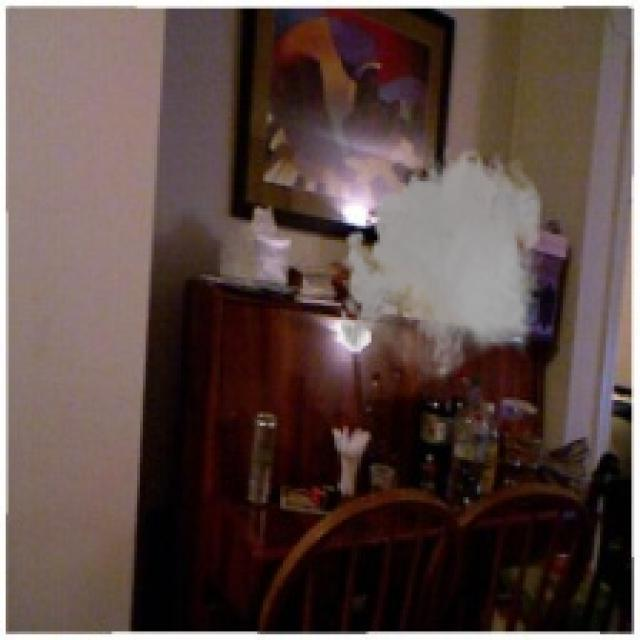Smoke: (332, 140, 552, 392)
